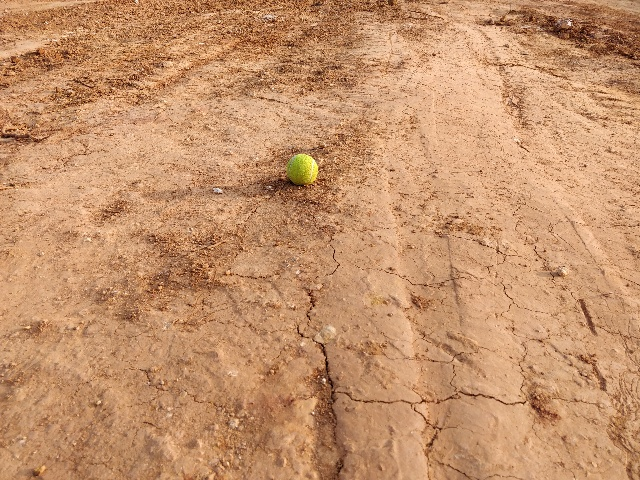ball: (280, 151, 324, 188)
